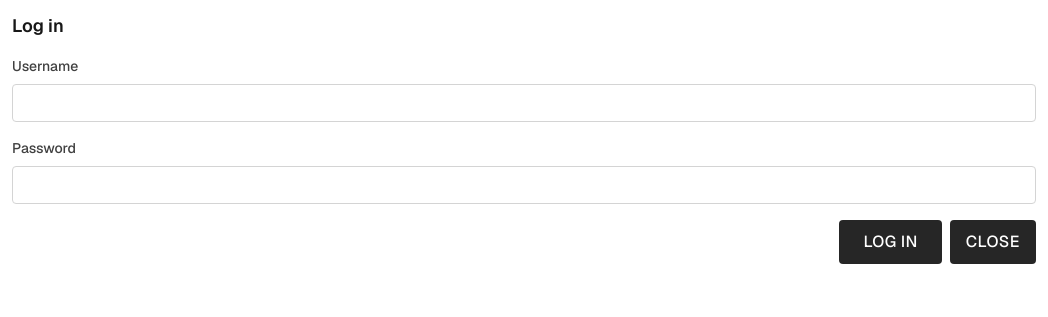
it: LoginForm › shows error when login fails on submit
Type "wrong" into the field labelled "Username" at (524, 103), box x1=12 y1=84 x2=1036 y2=122
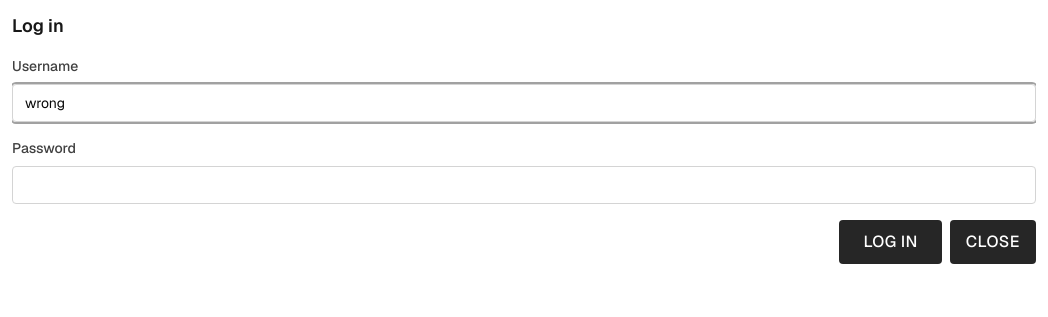
Type "wrong" into the password field labelled "Password" at (524, 185), box x1=12 y1=166 x2=1036 y2=204
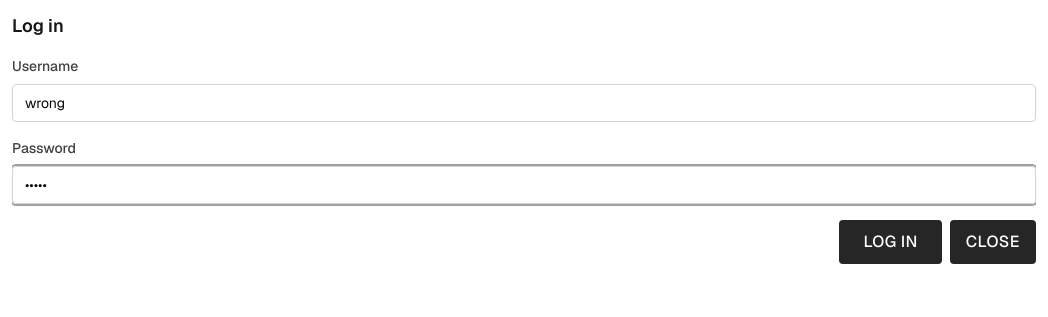
Click the button "Log in" at (891, 242), box x1=839 y1=220 x2=942 y2=264
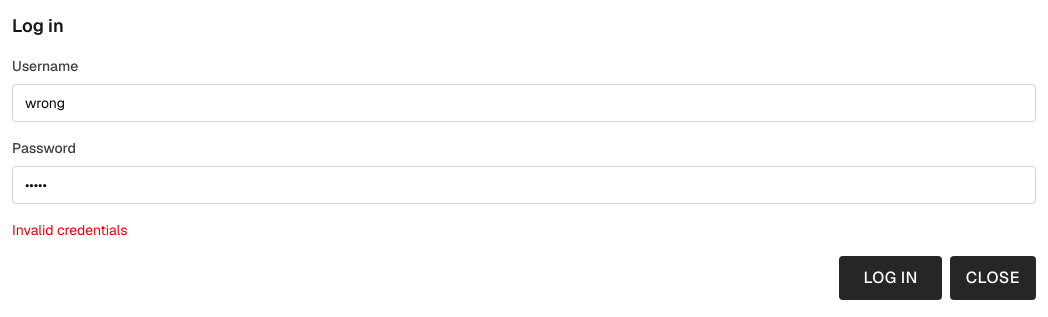
expect the message reads "Invalid credentials": met, box x1=12 y1=221 x2=128 y2=239
